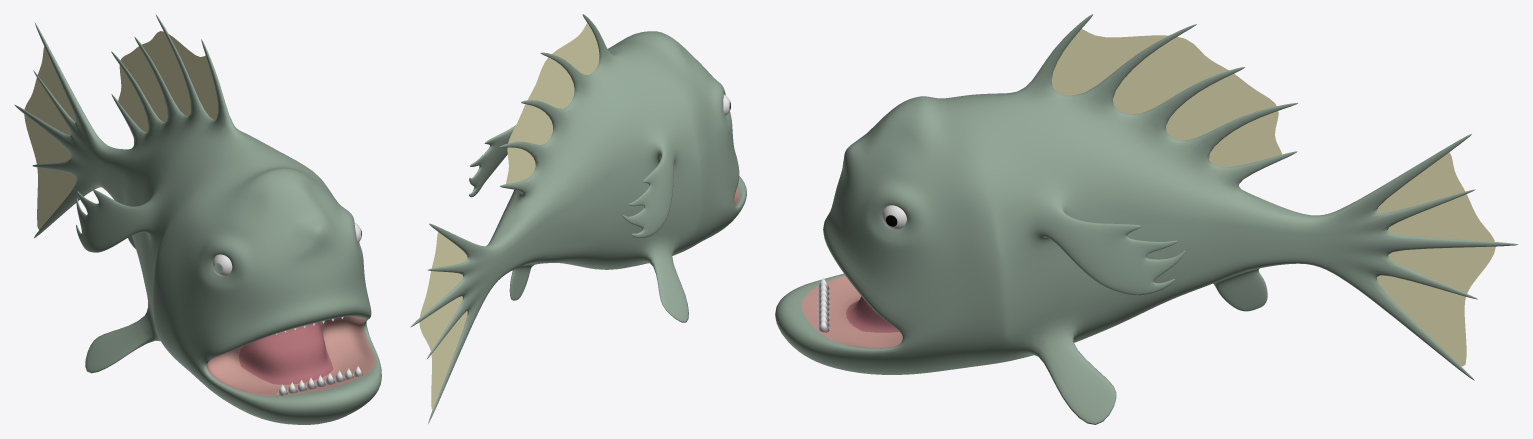
File: RYIBAFINal (1).fbx
3 renders of one model, left to right at view 1: azimuth 30°, elevation 25°; view 2: azimuth 150°, elevation 25°; view 3: azimuth 270°, elevation 25°, orthographic. The views are drawn at different scales.
Parts seen in each view (by area): view 1: Body, Webbing, Cone.017; view 2: Body, Webbing; view 3: Body, Webbing.
Part boxes in pixels (bbox=[...]): Body: bbox=[14, 15, 381, 424]; Webbing: bbox=[24, 31, 218, 229]; Cone.017: bbox=[277, 366, 362, 395]; Body: bbox=[410, 14, 746, 423]; Webbing: bbox=[419, 23, 599, 409]; Body: bbox=[775, 14, 1517, 424]; Webbing: bbox=[1051, 29, 1495, 366].
Size of the model in its own units: 851 by 1160 by 2130.
